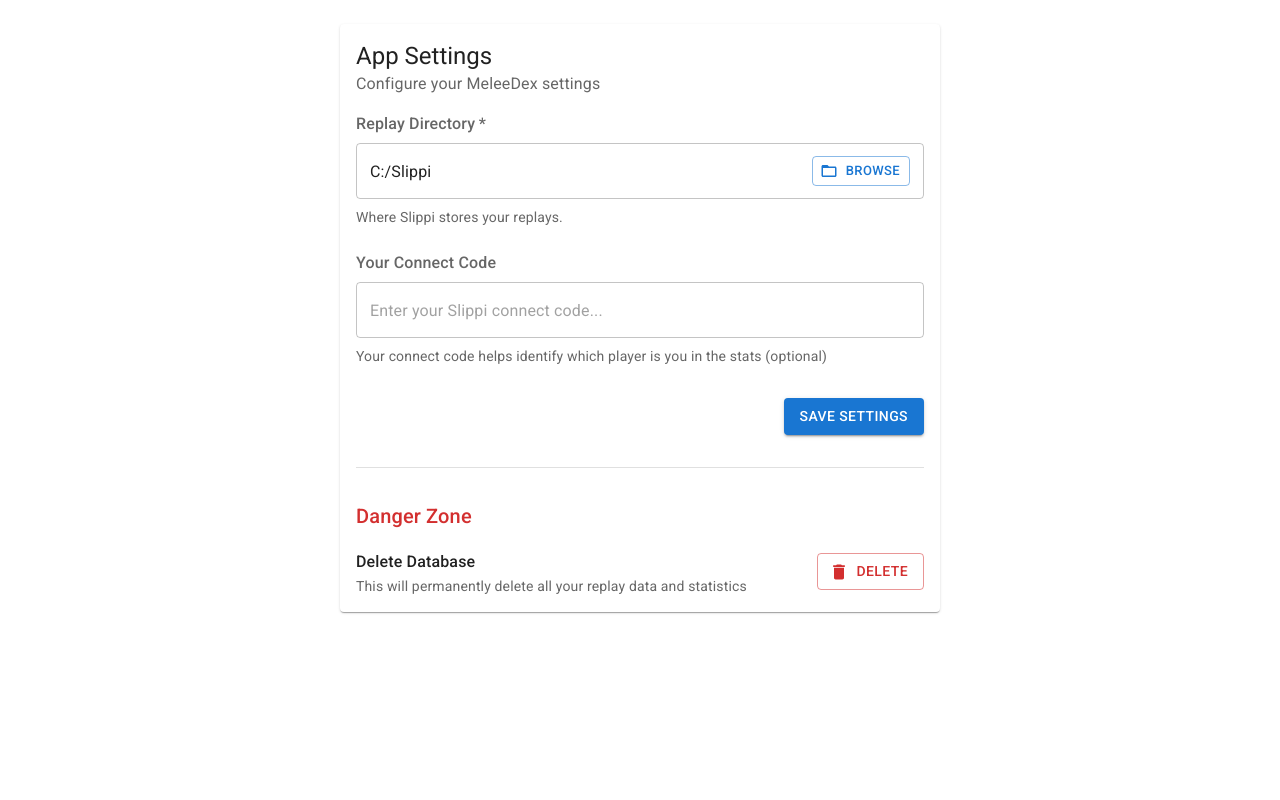
Scenario: SettingsPage — deleting the database › can be backed out of
This screenshot has width=1280, height=800.
Step 1. Click the button "Delete" → (870, 572), box [816,553,924,590]
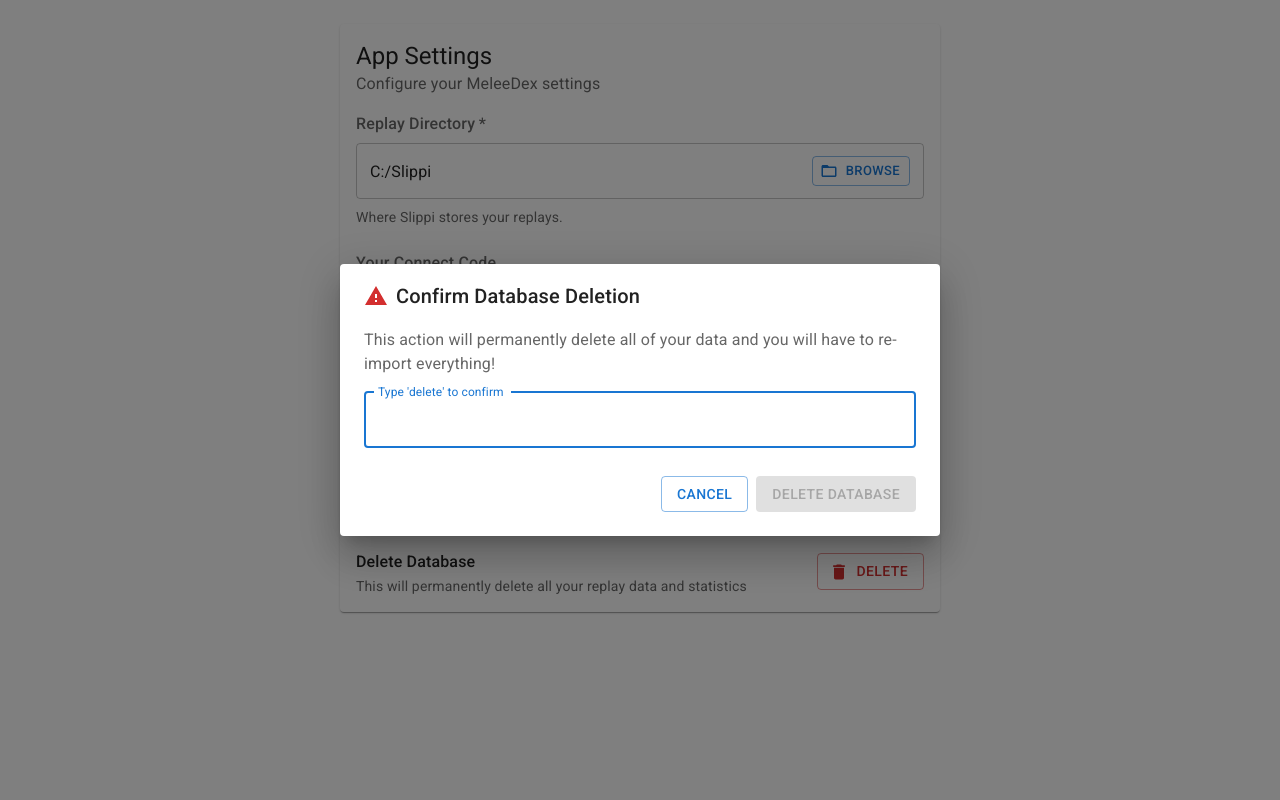
Step 2. Click the button "Cancel" → (705, 494), box [661,476,748,512]
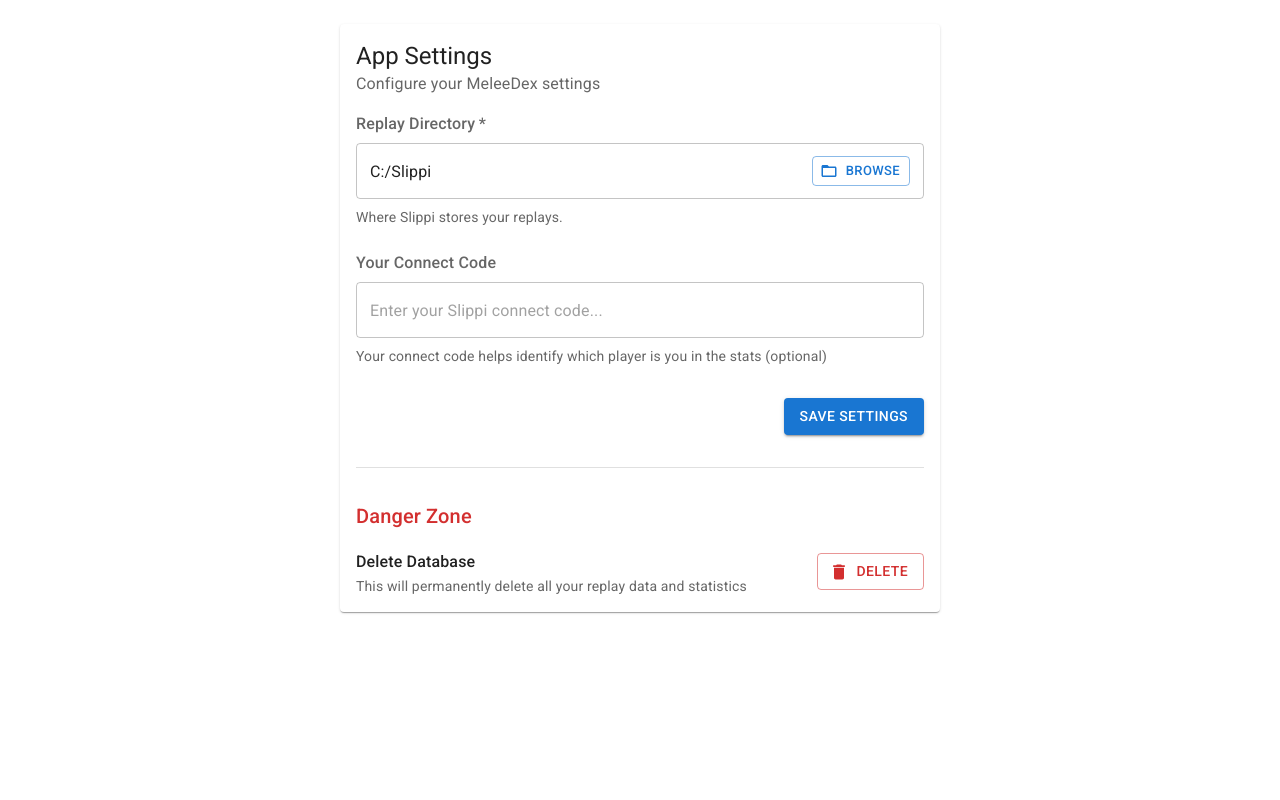
Result: the heading "Confirm Database Deletion" is gone
